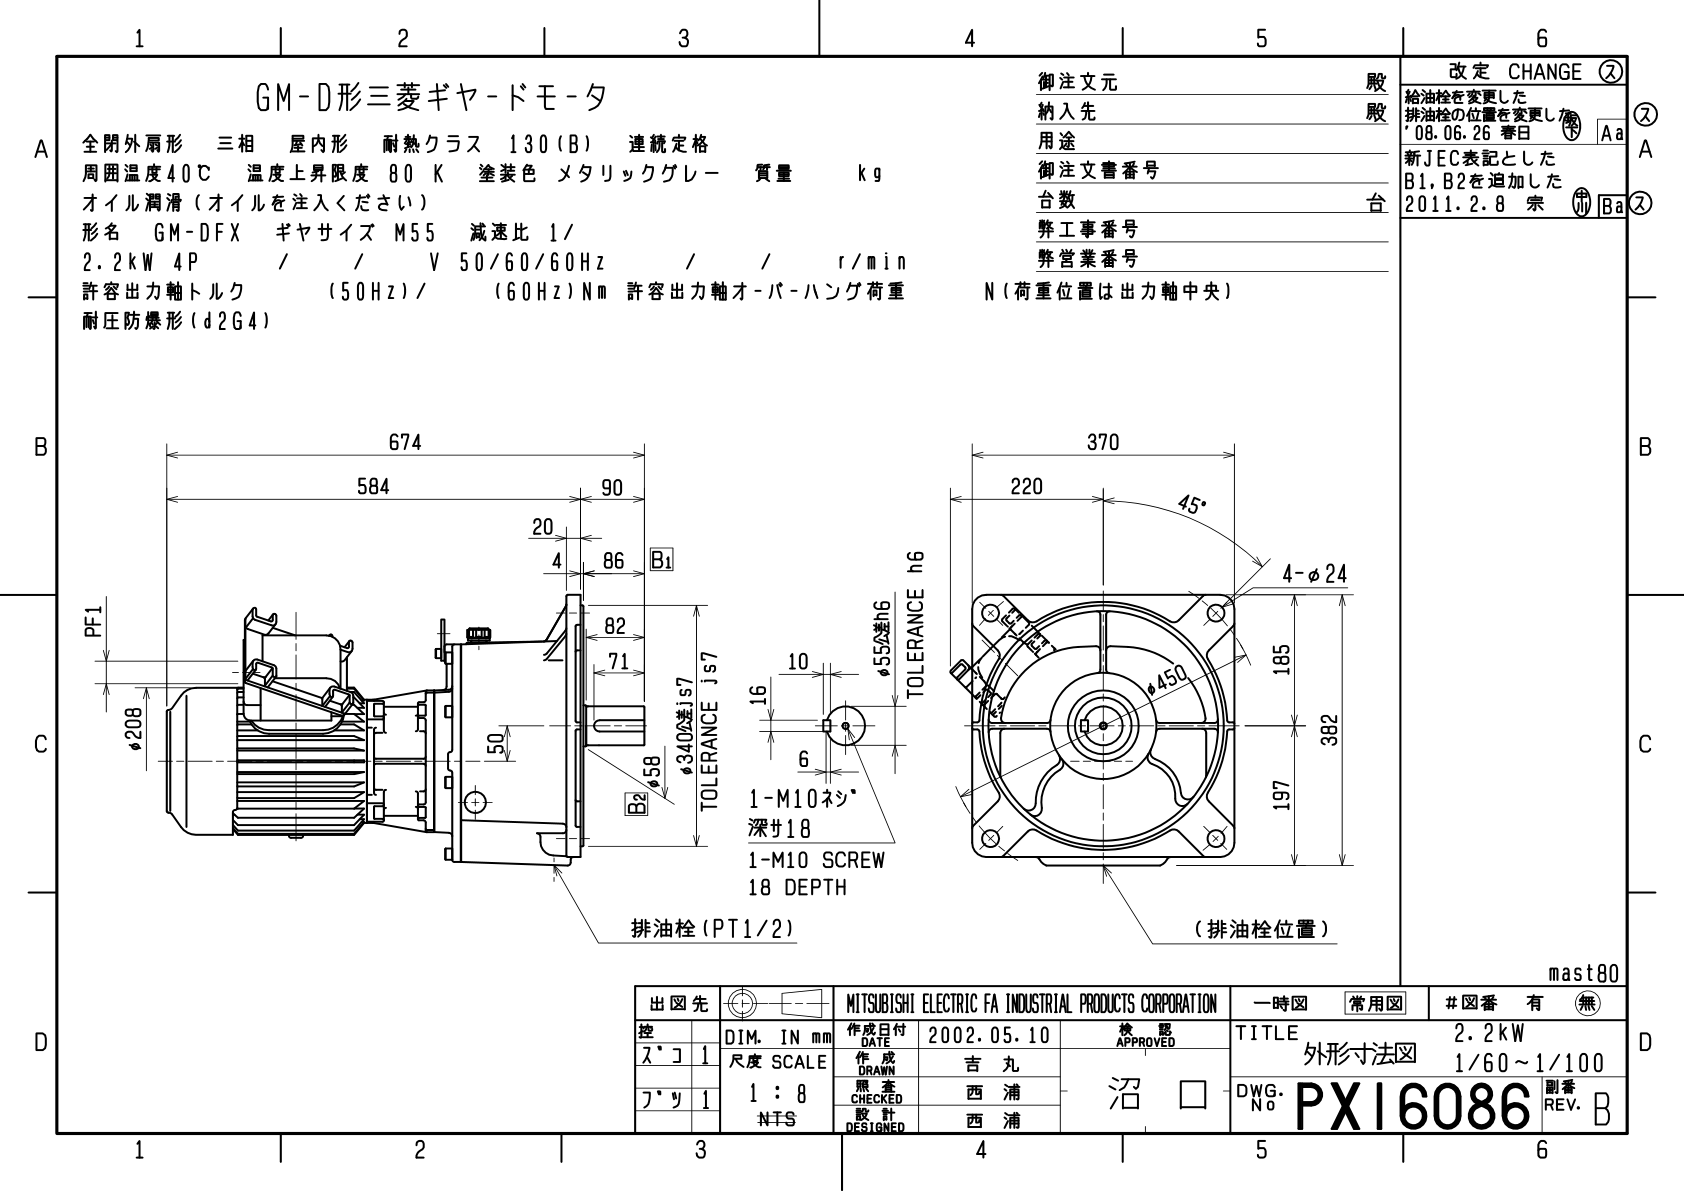GM_SP_屋内＿三相_フランジ: (64, 367, 1377, 963)
